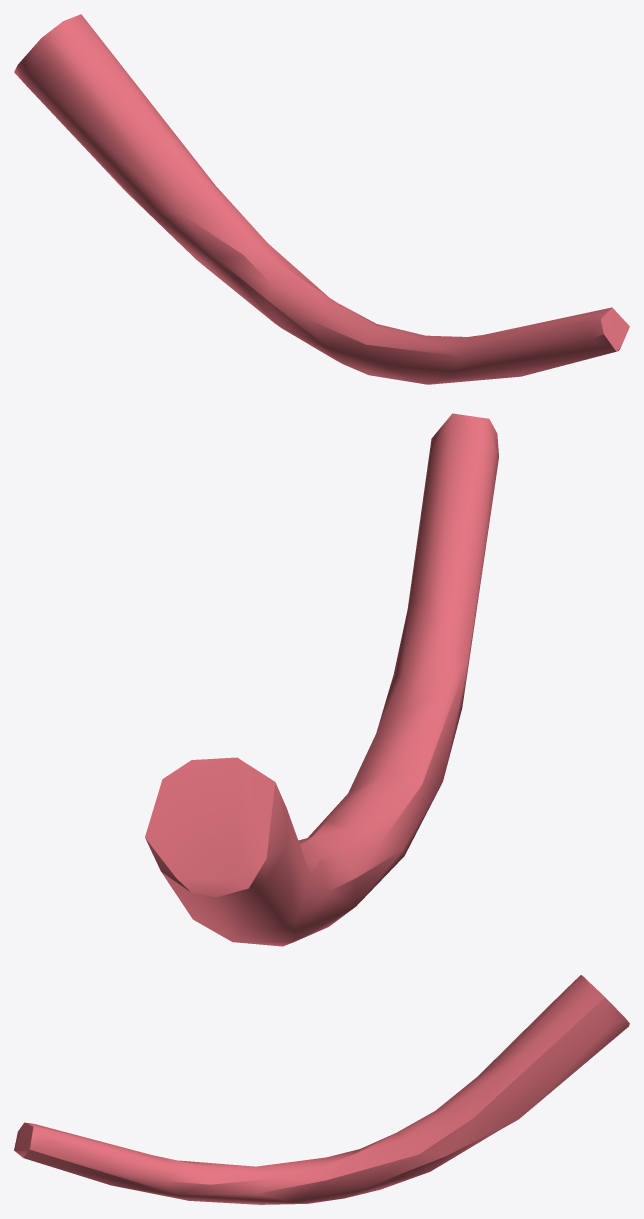
Rendered from fma68694_fj2988.glb.
The picture shows the model from 3 angles, top to bottom: view 1: azimuth 30°, elevation 25°; view 2: azimuth 150°, elevation 25°; view 3: azimuth 270°, elevation 25°; orthographic projection. The views are drawn at different scales.
Parts seen in each view (by area): view 1: FMA68694_FJ2988; view 2: FMA68694_FJ2988; view 3: FMA68694_FJ2988.
Part boxes in pixels (x1,y1,x2,y2): FMA68694_FJ2988: [14, 14, 629, 384]; FMA68694_FJ2988: [145, 413, 498, 946]; FMA68694_FJ2988: [14, 975, 629, 1204].
Bounding box in the file's own units: 0.0162 × 0.014 × 0.042.
